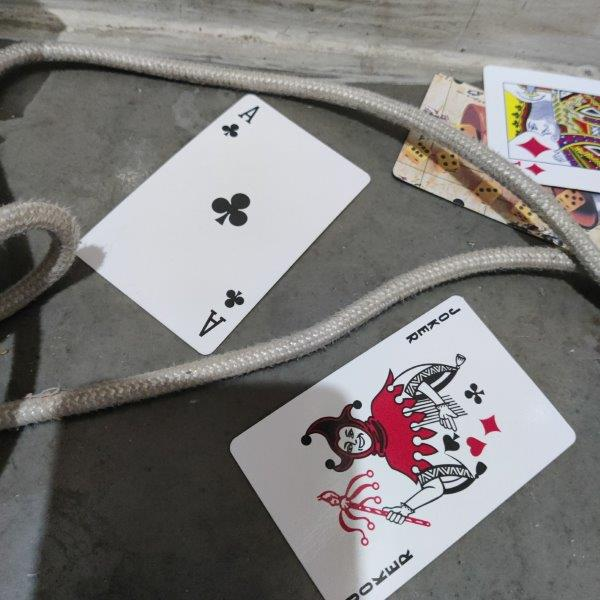Ace of Clubs: (72, 94, 371, 355)
Joker: (229, 293, 577, 600)
King of Diamonds: (483, 64, 600, 193)
